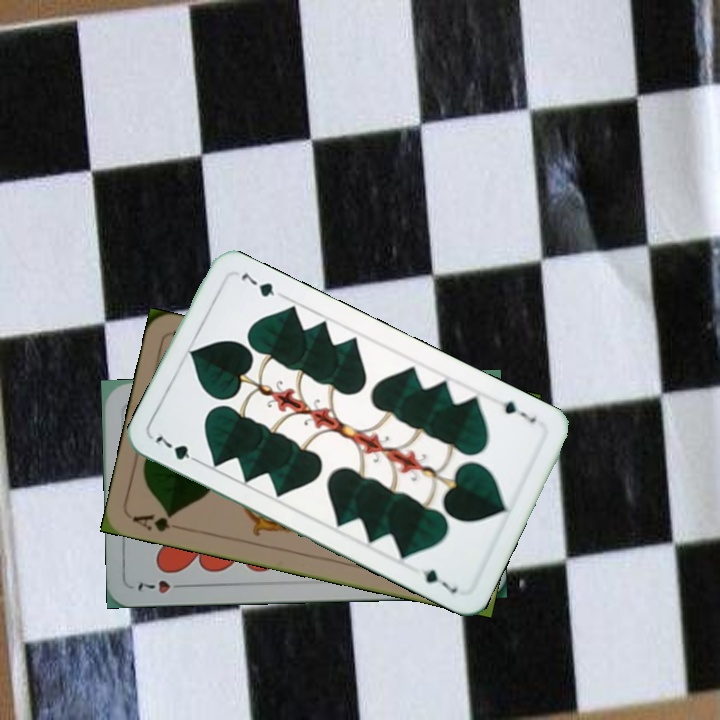G7: (151, 432, 205, 467), (492, 394, 539, 426)
GA: (128, 509, 187, 535)
H7: (134, 576, 190, 596)
